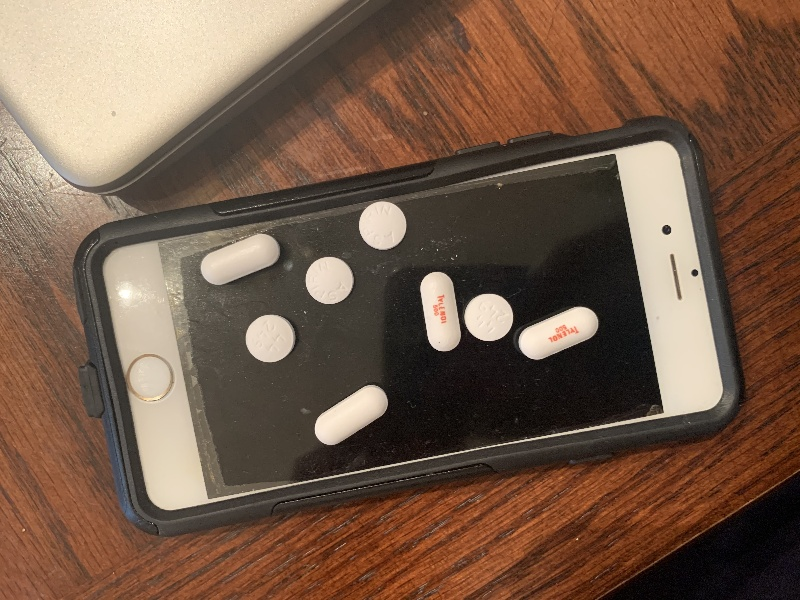Aspirin: (239, 311, 305, 363), (461, 289, 516, 345), (354, 199, 408, 253), (305, 256, 354, 307)
Tylenol: (185, 230, 291, 289), (514, 300, 609, 363), (309, 381, 393, 447), (414, 269, 462, 361)
